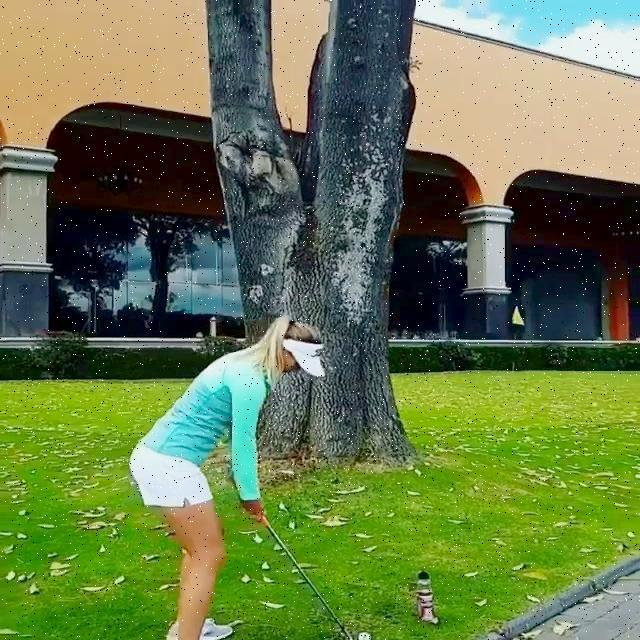ClubHandle: (255, 502, 352, 639)
GolfBall: (358, 633, 372, 640)
